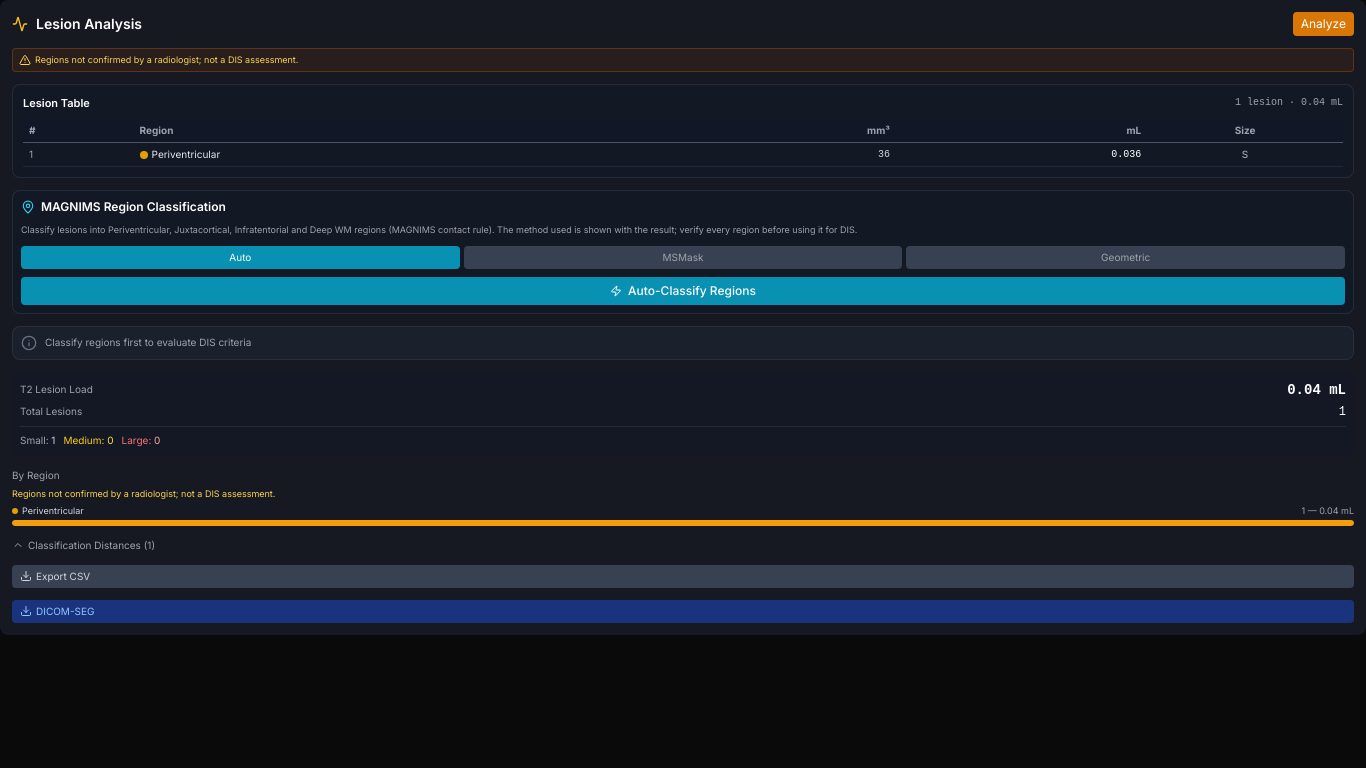
Test: blocker 1 / findings 7-8: the DIS card › rc070 review1 a late reply of an older request never overwrites a newer one
The image size is (1366, 768).
Click the button "Analyze": (1323,24) top-left (1293, 12), bottom-right (1354, 36)
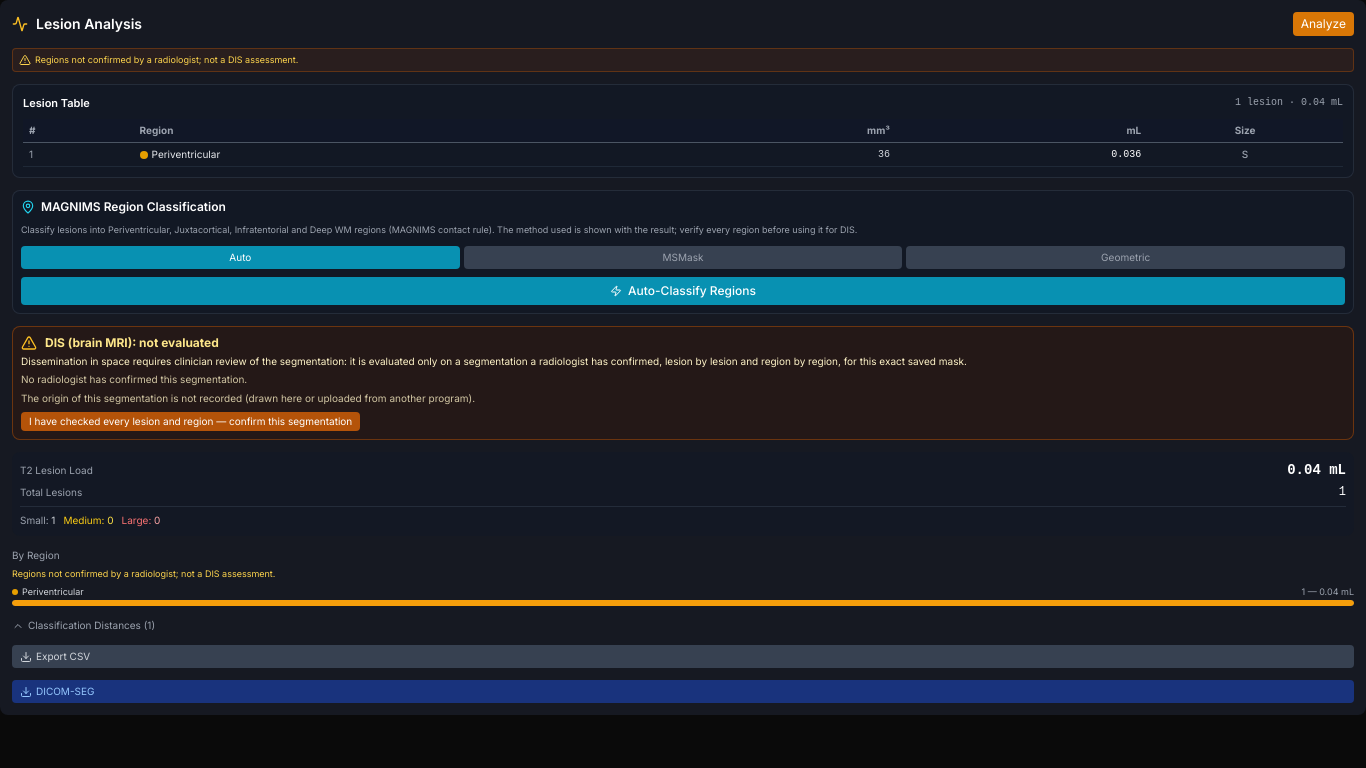
Result: the message with test id "dis-not-evaluated" is shown at top-left (12, 326), bottom-right (1354, 440)
